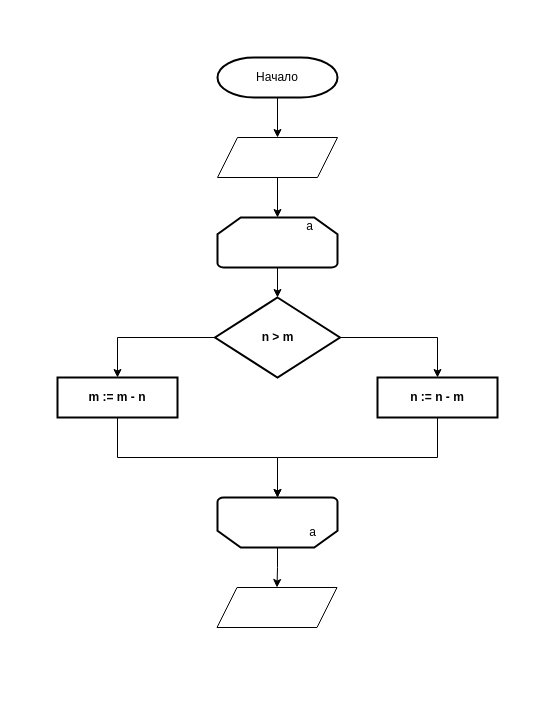
This 554x714 diagram has some shape labels left out. Each missing label, with the box of its shape:
Ввод n, m: (216, 136, 338, 178)
Вывод n: (216, 586, 337, 628)
Пока n ≠ m: (216, 216, 338, 268)
